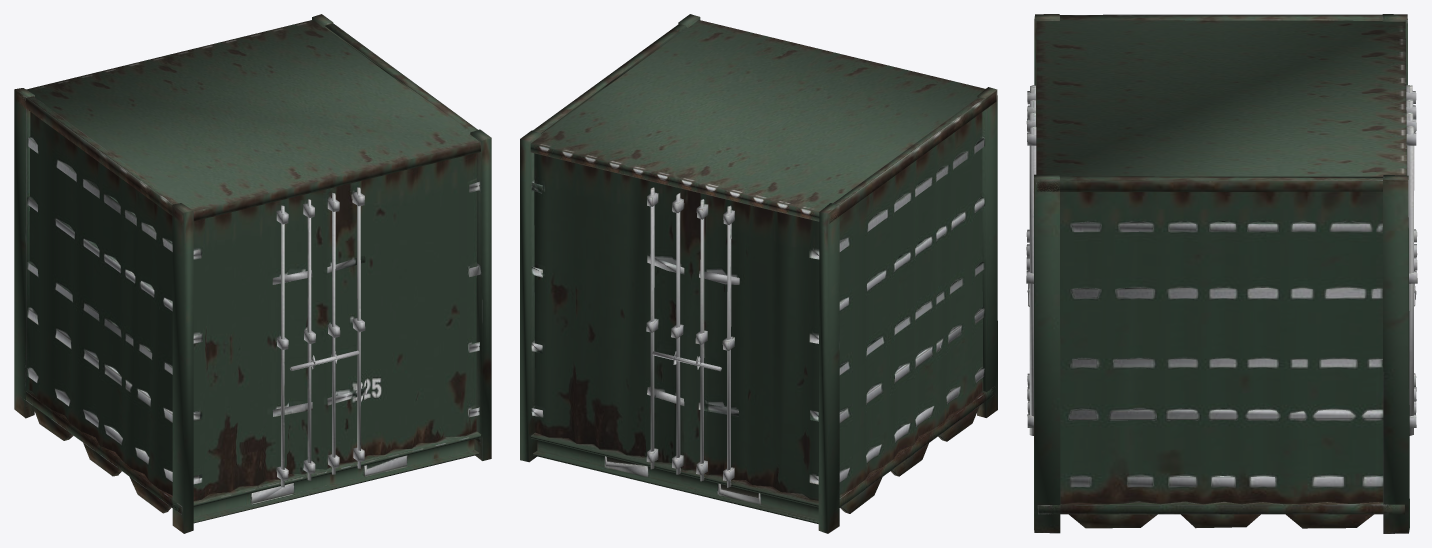
The model's file is container.glb.
3 renders of one model, left to right at view 1: azimuth 30°, elevation 25°; view 2: azimuth 150°, elevation 25°; view 3: azimuth 270°, elevation 25°, orthographic. The views are drawn at different scales.
Size of the model in its own units: 1 by 1 by 1.
Materials: 1 (1 with a texture image).
